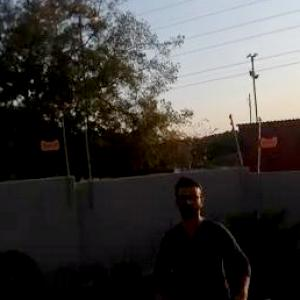follow: (148, 165, 258, 299)
